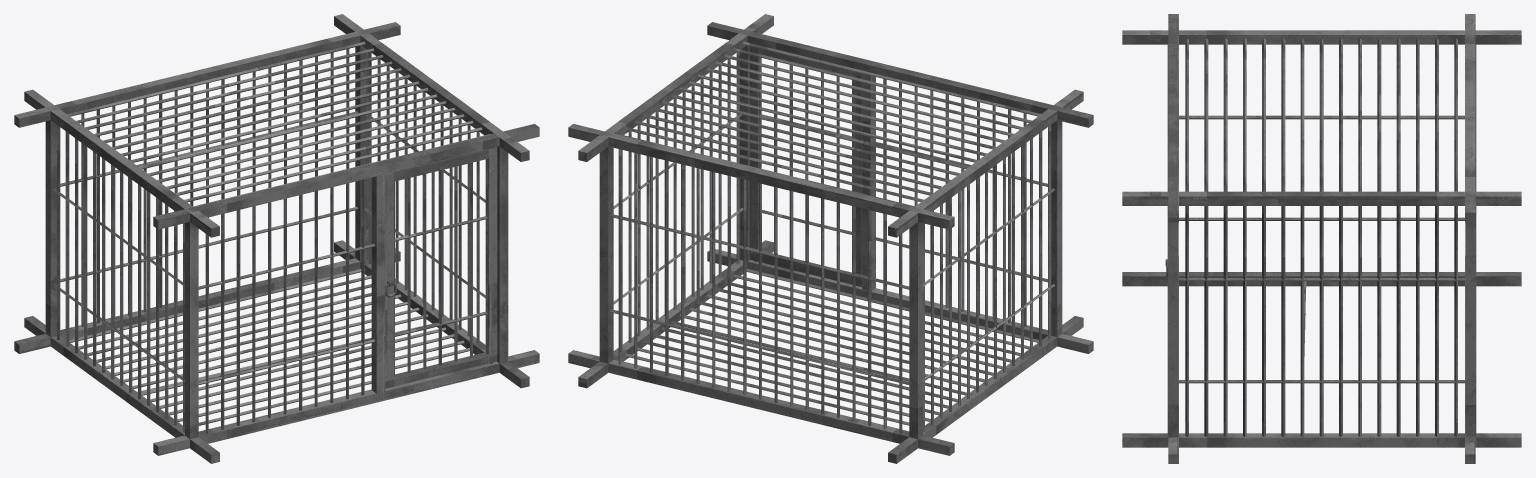
The model's file is CageS3.fbx.
3 renders of one model, left to right at view 1: azimuth 30°, elevation 25°; view 2: azimuth 150°, elevation 25°; view 3: azimuth 270°, elevation 25°, orthographic. The views are drawn at different scales.
Visible parts, largest first — view 1: Cube.131; view 2: Cube.131; view 3: Cube.131.
Boxes of the visible parts, bbox=[...] form: Cube.131: bbox=[14, 14, 539, 463]; Cube.131: bbox=[568, 14, 1093, 463]; Cube.131: bbox=[1122, 14, 1521, 463].
Size of the model in its own units: 553 by 326 by 470.
1 material, 1 textured.
